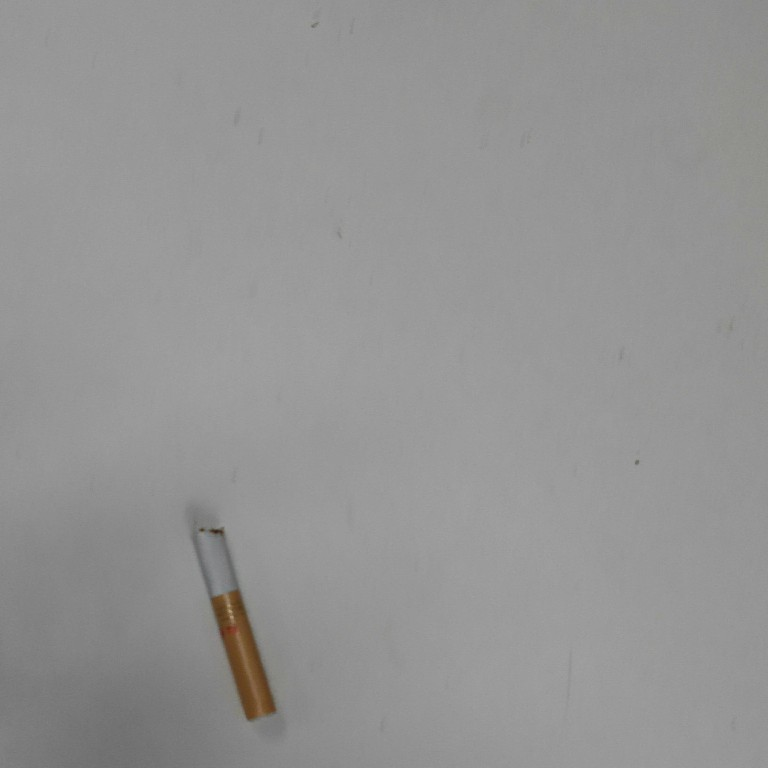cigarette: (191, 525, 281, 724)
